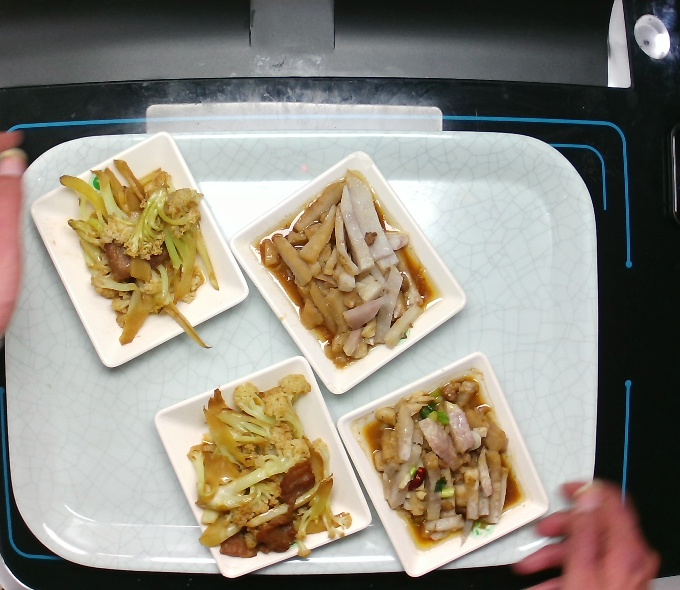wcq-QiuCaiChaoRou: (177, 369, 357, 576), (52, 154, 223, 361)
wcq-YuTou: (265, 160, 430, 375), (366, 371, 527, 549)
